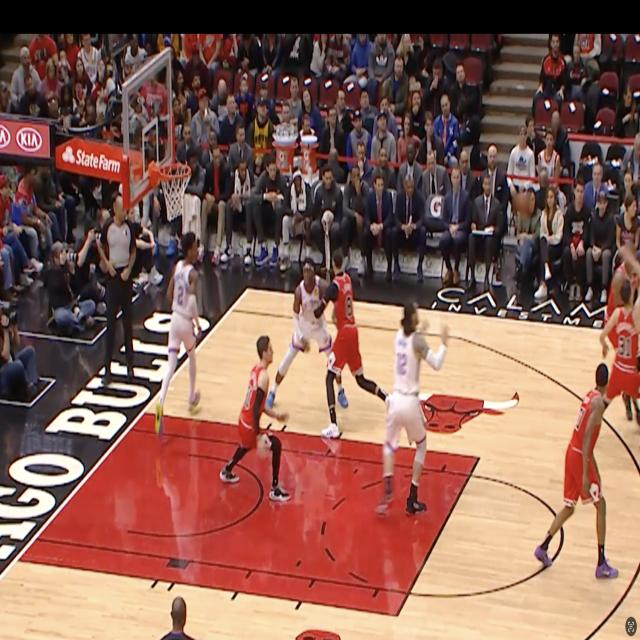no foul: (275, 235, 378, 455)
